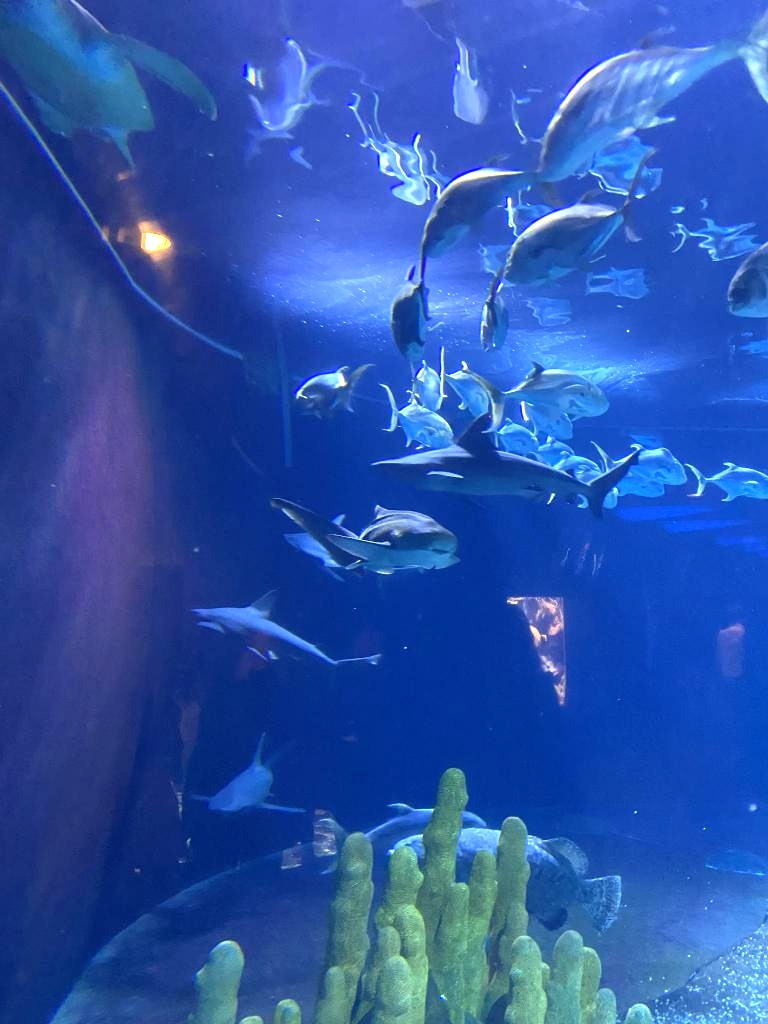fish: (535, 4, 767, 184), (386, 828, 622, 930), (505, 154, 650, 286), (322, 800, 488, 878), (420, 167, 518, 269), (466, 364, 600, 414), (379, 384, 452, 450), (592, 442, 664, 500), (296, 364, 368, 416), (394, 268, 431, 366), (438, 360, 490, 422), (727, 242, 767, 318), (688, 464, 766, 502), (480, 262, 510, 352), (628, 448, 688, 488), (406, 362, 444, 410), (522, 409, 574, 439), (490, 422, 538, 452), (525, 437, 575, 465), (553, 458, 599, 484), (579, 482, 619, 508)
shark: (373, 412, 639, 522), (192, 590, 380, 672), (270, 494, 456, 576), (190, 732, 302, 816)
